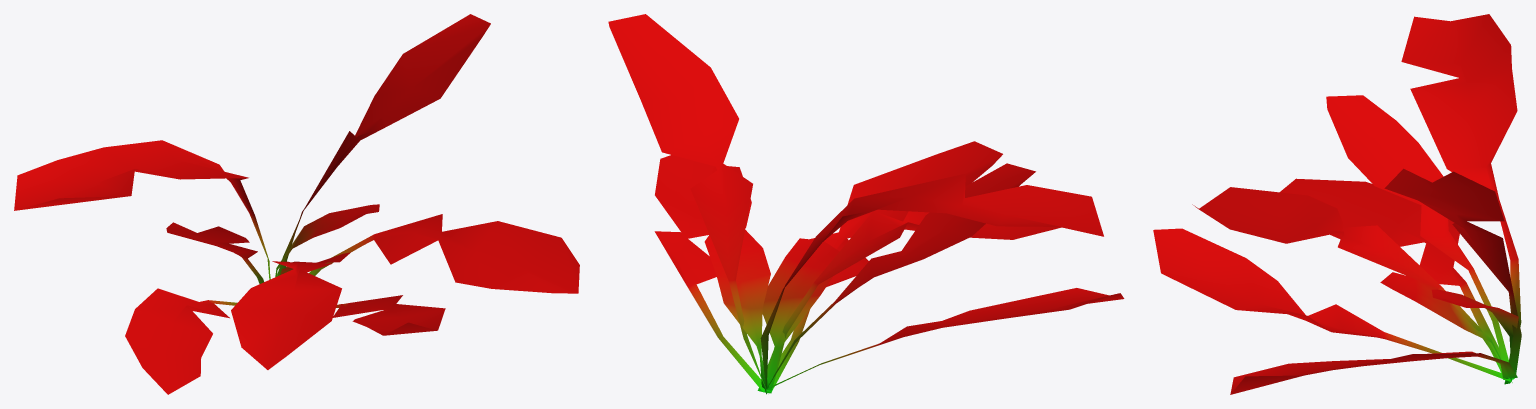
Rendered from Var16_LOD1.fbx.
3 renders of one model, left to right at view 1: azimuth 30°, elevation 25°; view 2: azimuth 150°, elevation 25°; view 3: azimuth 270°, elevation 25°, orthographic. The views are drawn at different scales.
Visible parts, largest first — view 1: _2u7b_Var16_LOD1; view 2: _2u7b_Var16_LOD1; view 3: _2u7b_Var16_LOD1.
Part boxes in pixels (x1,y1,x2,y2): _2u7b_Var16_LOD1: [14, 14, 579, 394]; _2u7b_Var16_LOD1: [608, 14, 1124, 394]; _2u7b_Var16_LOD1: [1153, 14, 1521, 394].
Size of the model in its own units: 35.8 by 19.99 by 22.08.
